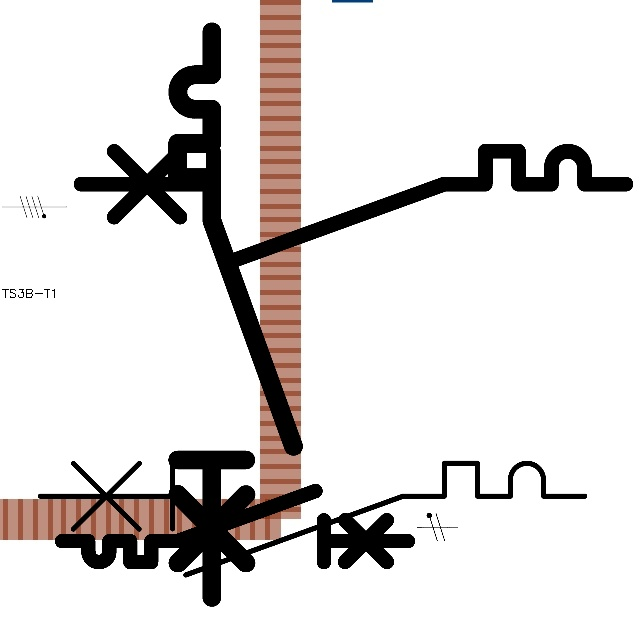interruptor_termomagnetico: (163, 17, 308, 611), (26, 449, 599, 589), (66, 137, 639, 277), (53, 482, 417, 571)
